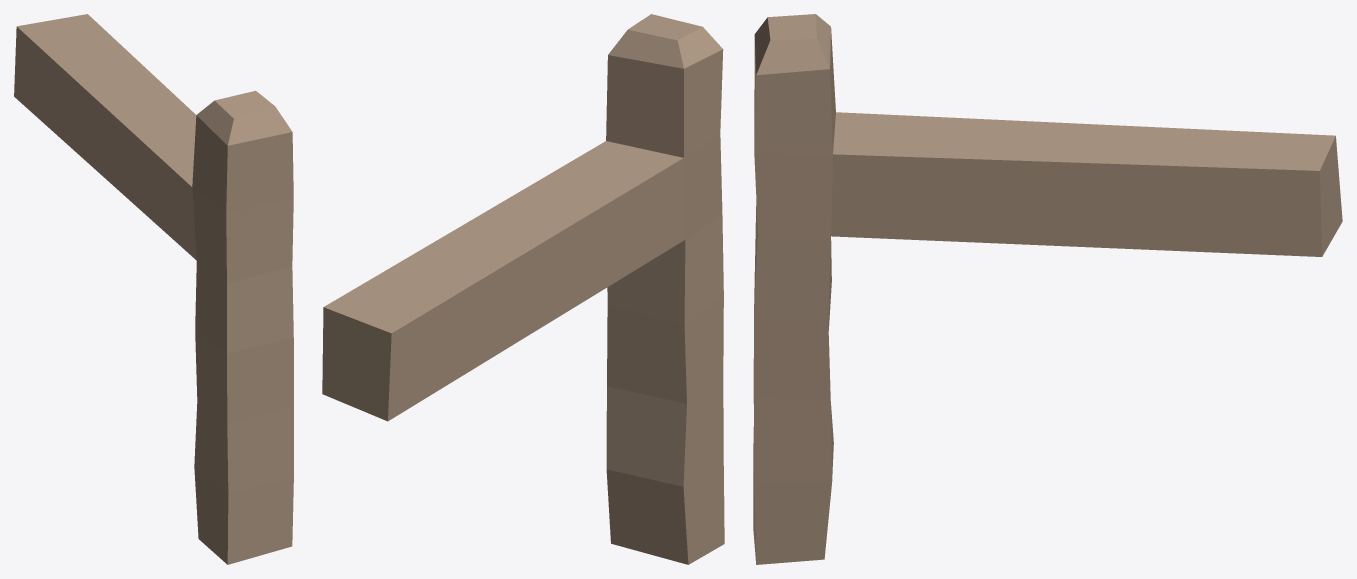
Rendered from Fence2.fbx.
3 views of the same model, side by side, from view 1: azimuth 30°, elevation 25°; view 2: azimuth 150°, elevation 25°; view 3: azimuth 270°, elevation 25° (orthographic). The views are drawn at different scales.
Visible parts, largest first — view 1: Cube.002; view 2: Cube.002; view 3: Cube.002.
Part boxes in pixels (x1=…): Cube.002: x1=14, y1=14, x2=293, y2=564; Cube.002: x1=322, y1=14, x2=724, y2=564; Cube.002: x1=753, y1=14, x2=1342, y2=564.
Bounding box in the file's own units: 45.27 × 191 × 195.
